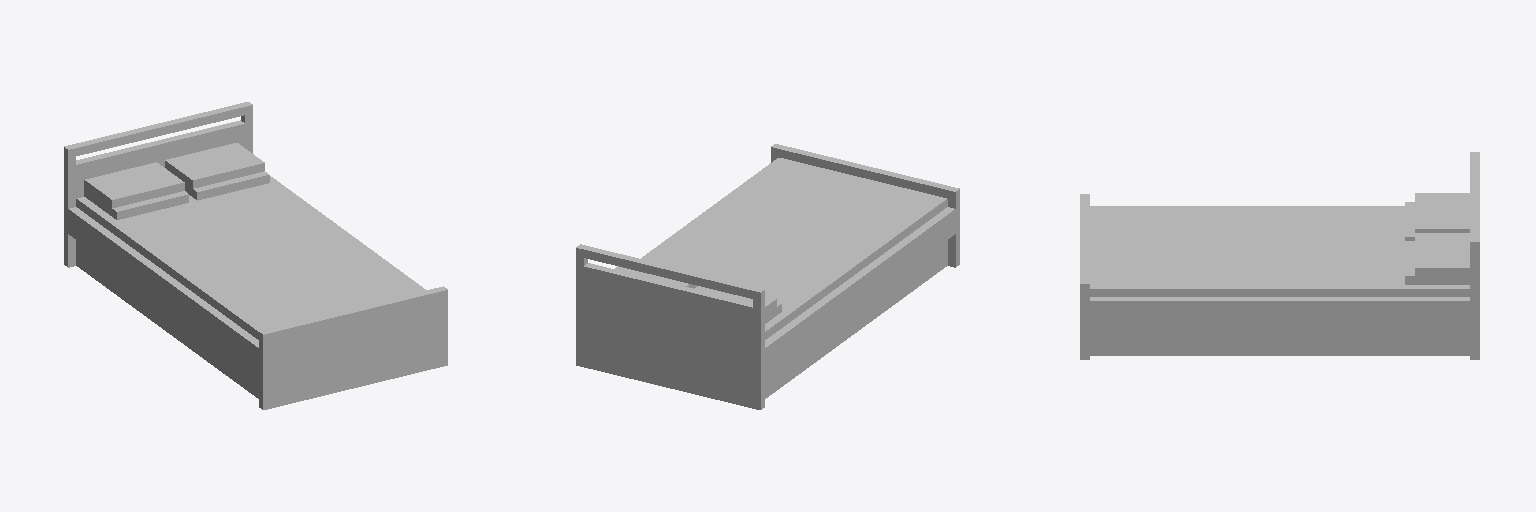
The model's file is double bed.obj.
3 renders of one model, left to right at view 1: azimuth 30°, elevation 25°; view 2: azimuth 150°, elevation 25°; view 3: azimuth 270°, elevation 25°, orthographic.
Bounding box in the file's own units: 23 × 14 × 43.